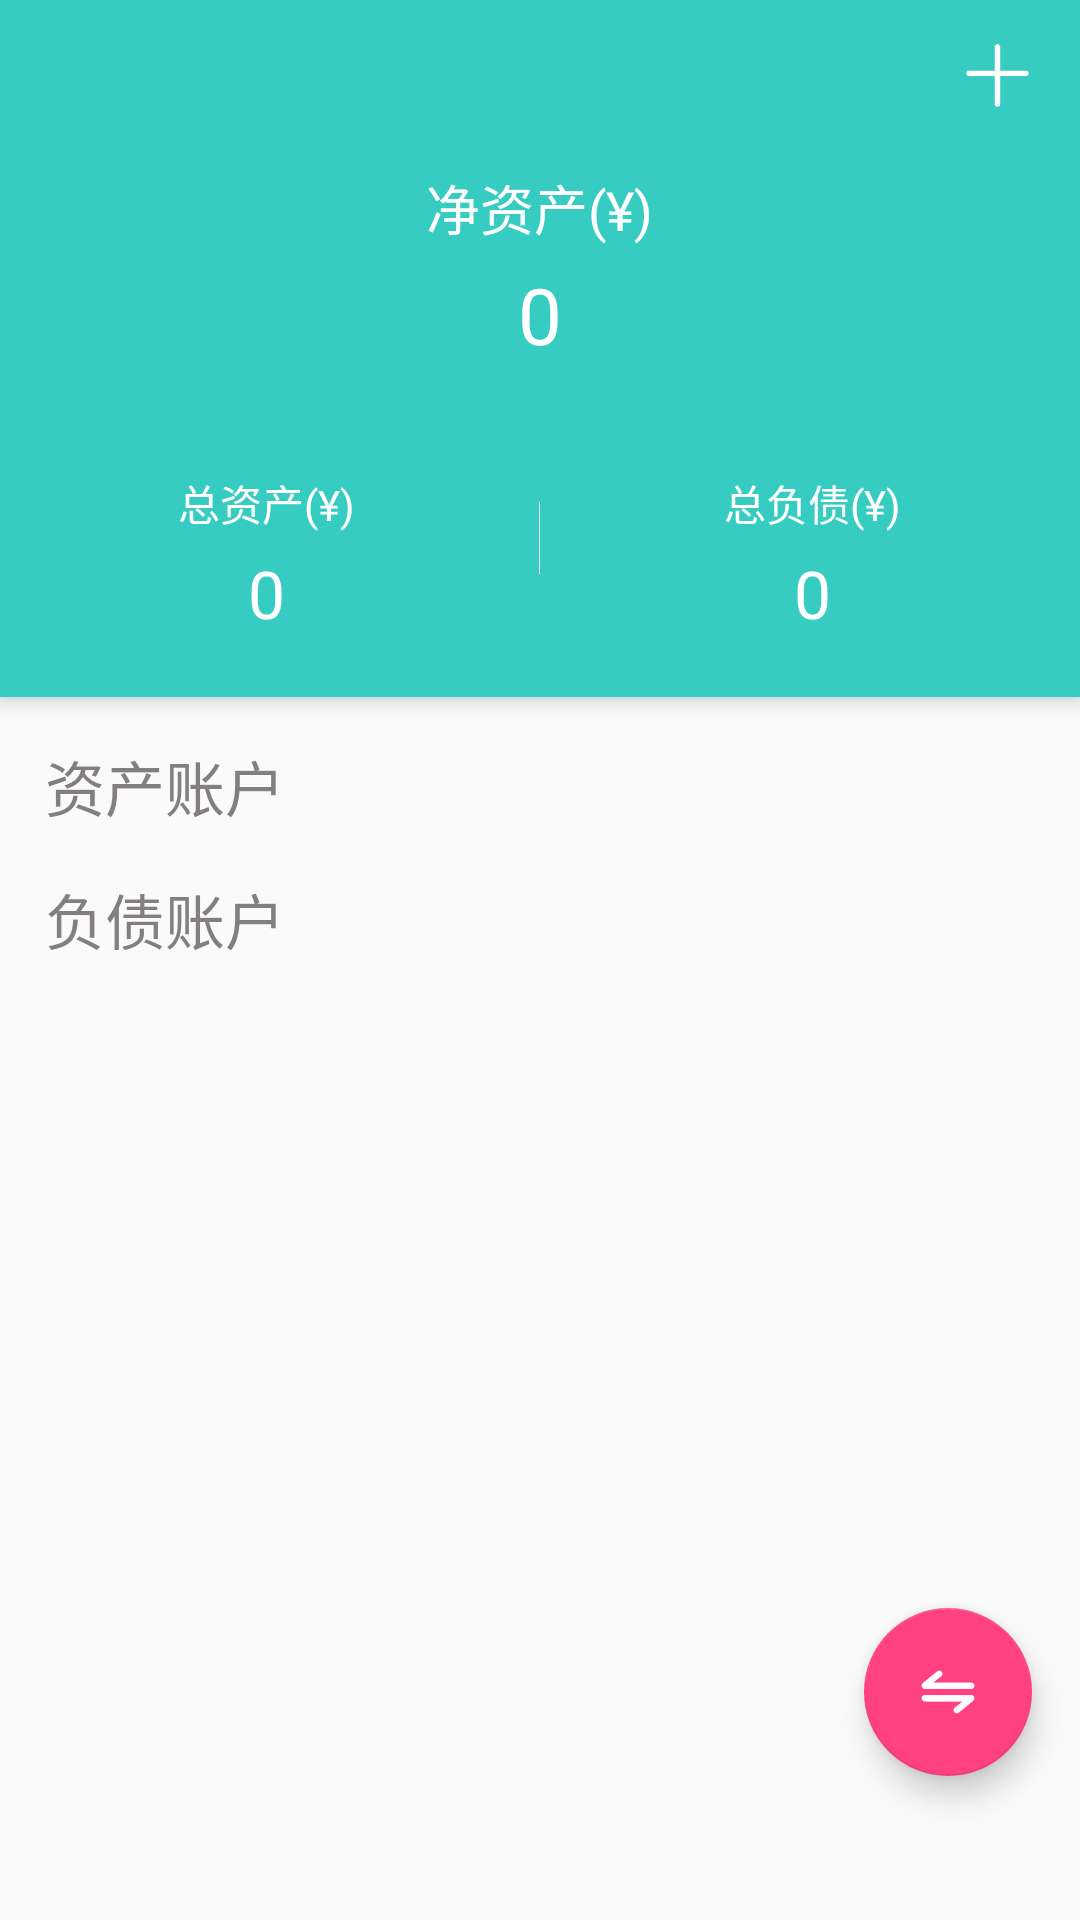

Icons on this 1080 × 1920 Android screen, each with its box as rect(x1, y1, x2, y2):
add: rect(966, 44, 1029, 107)
transfer: rect(864, 1608, 1032, 1776)
